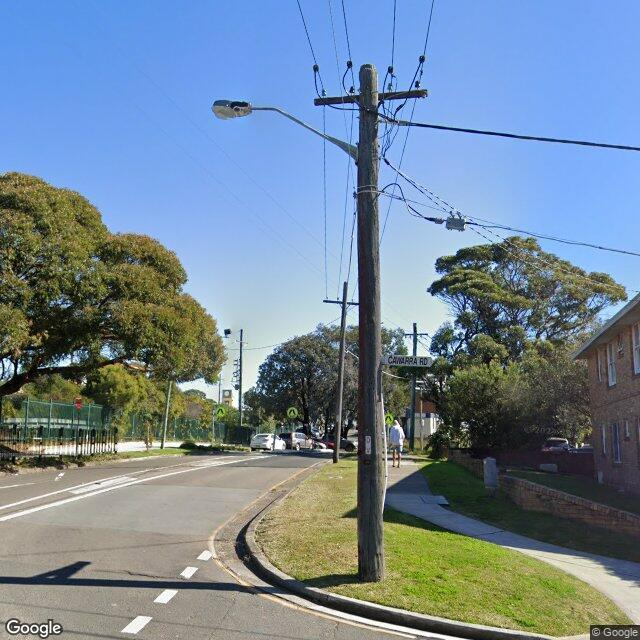crossarm: (314, 89, 428, 108), (323, 300, 359, 306), (404, 332, 429, 337)
streetlight: (212, 98, 360, 162)
timber-pole: (357, 64, 385, 583), (332, 281, 348, 463), (408, 322, 418, 451), (161, 380, 172, 449), (238, 330, 244, 424)
